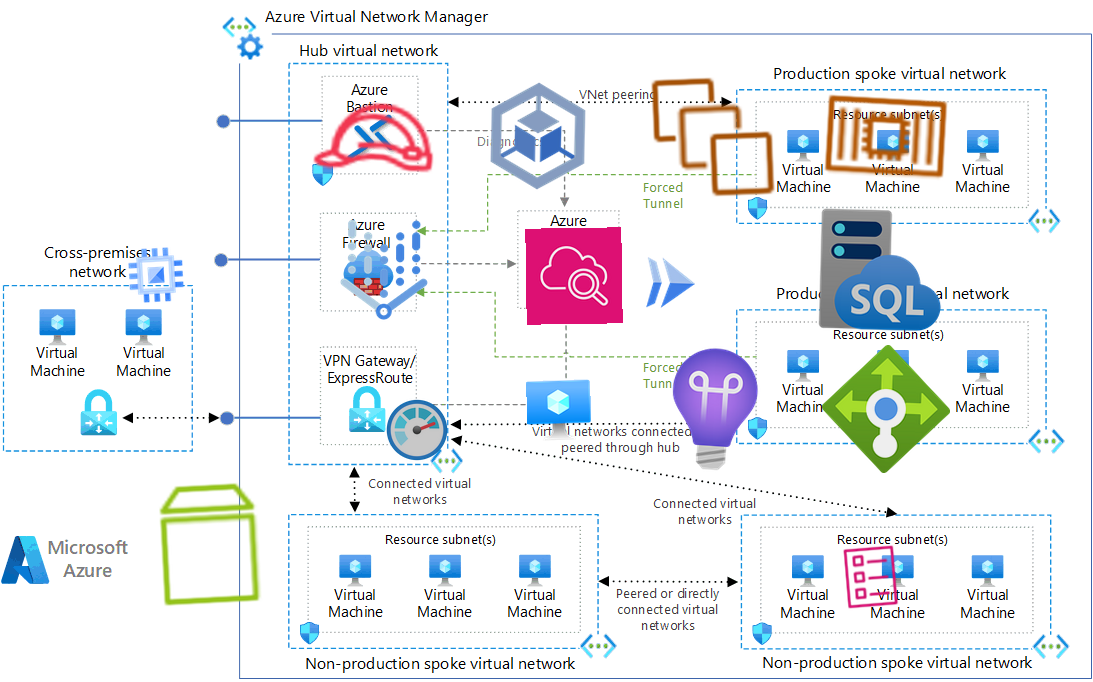aws_amazon_cloudwatch: (525, 227, 623, 325)
aws_cloudformation_template: (835, 542, 905, 612)
aws_ec2_instances: (646, 70, 780, 204)
aws_elastic_block_store_volume: (142, 476, 278, 612)
aws_elastic_container_service_container_2: (818, 68, 954, 204)
aws_identity_access_management_role: (305, 68, 445, 208)
azure_application_insights: (645, 340, 783, 478)
azure_load_balancers: (819, 342, 953, 476)
azure_monitor: (384, 397, 450, 463)
azure_sql_managed_instance: (815, 204, 947, 336)
azure_virtual_machine: (525, 378, 593, 446)
gcp_cloud_run: (636, 249, 704, 317)
gcp_compute_engine: (122, 241, 190, 309)
gcp_google_kubernetes_engine: (472, 70, 604, 202)
gcp_vertex_ai: (319, 205, 449, 335)
